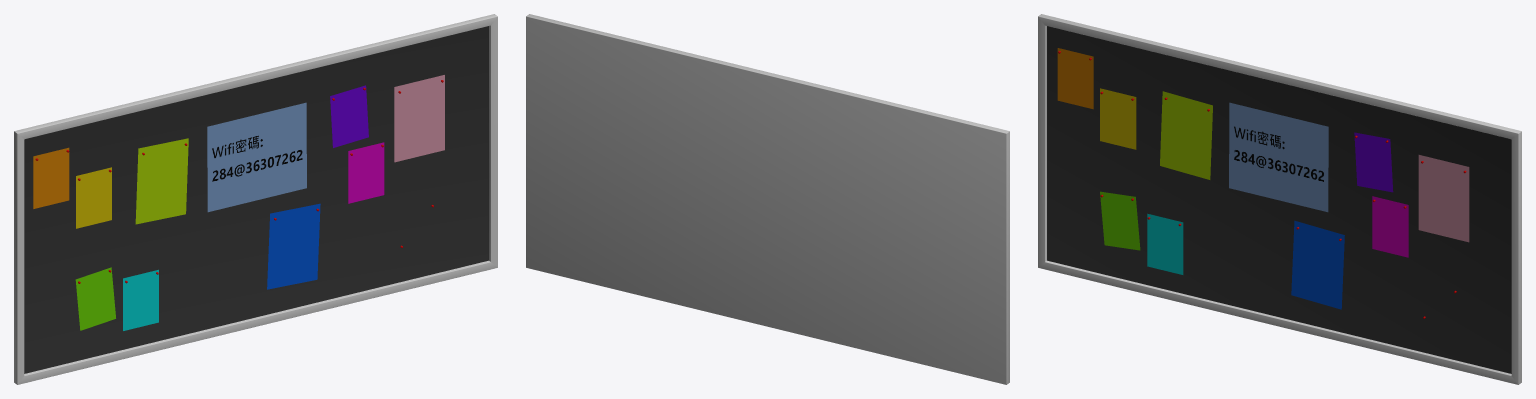
The model's file is Bulletin Board.fbx.
3 views of the same model, side by side, from view 1: azimuth 30°, elevation 25°; view 2: azimuth 150°, elevation 25°; view 3: azimuth 330°, elevation 25° (orthographic).
Parts seen in each view (by area): view 1: Bulletin Board, password; view 2: Bulletin Board; view 3: Bulletin Board, password.
Boxes of the visible parts, box(x1,y1,x2,y2) form: Bulletin Board: box(14, 14, 497, 384); password: box(207, 102, 306, 212); Bulletin Board: box(526, 14, 1009, 384); Bulletin Board: box(1038, 14, 1521, 384); password: box(1229, 102, 1328, 212).
Bounding box in the file's own units: 386 × 193 × 4.82.
